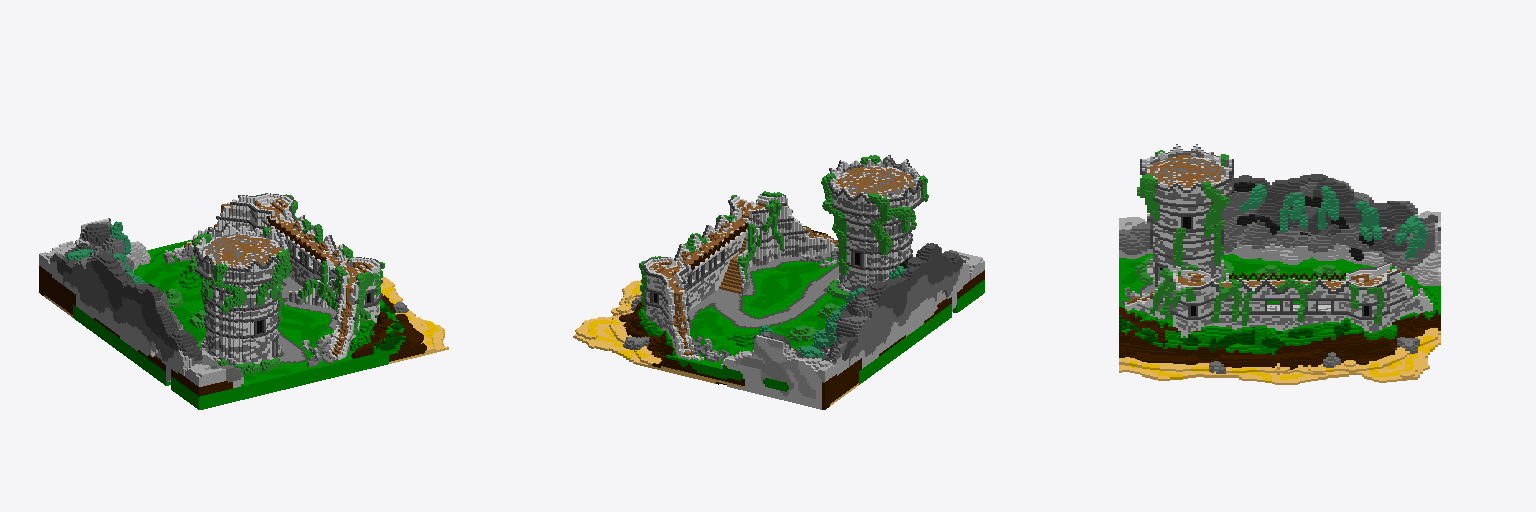
3 renders of one model, left to right at view 1: azimuth 30°, elevation 25°; view 2: azimuth 150°, elevation 25°; view 3: azimuth 270°, elevation 25°, orthographic.
Bounding box in the file's own units: 124 × 54 × 126.
1 materials, 1 textured.